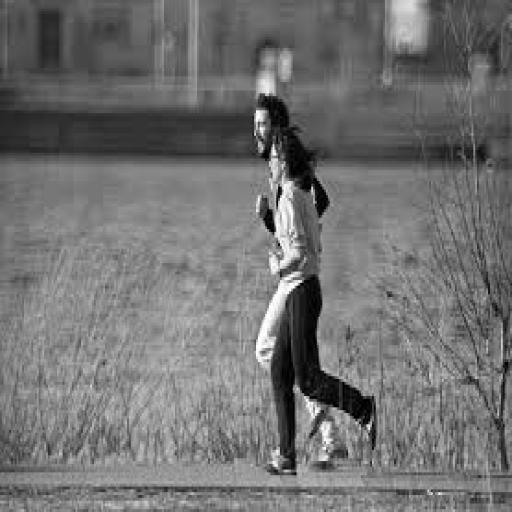running: (249, 91, 381, 478)
